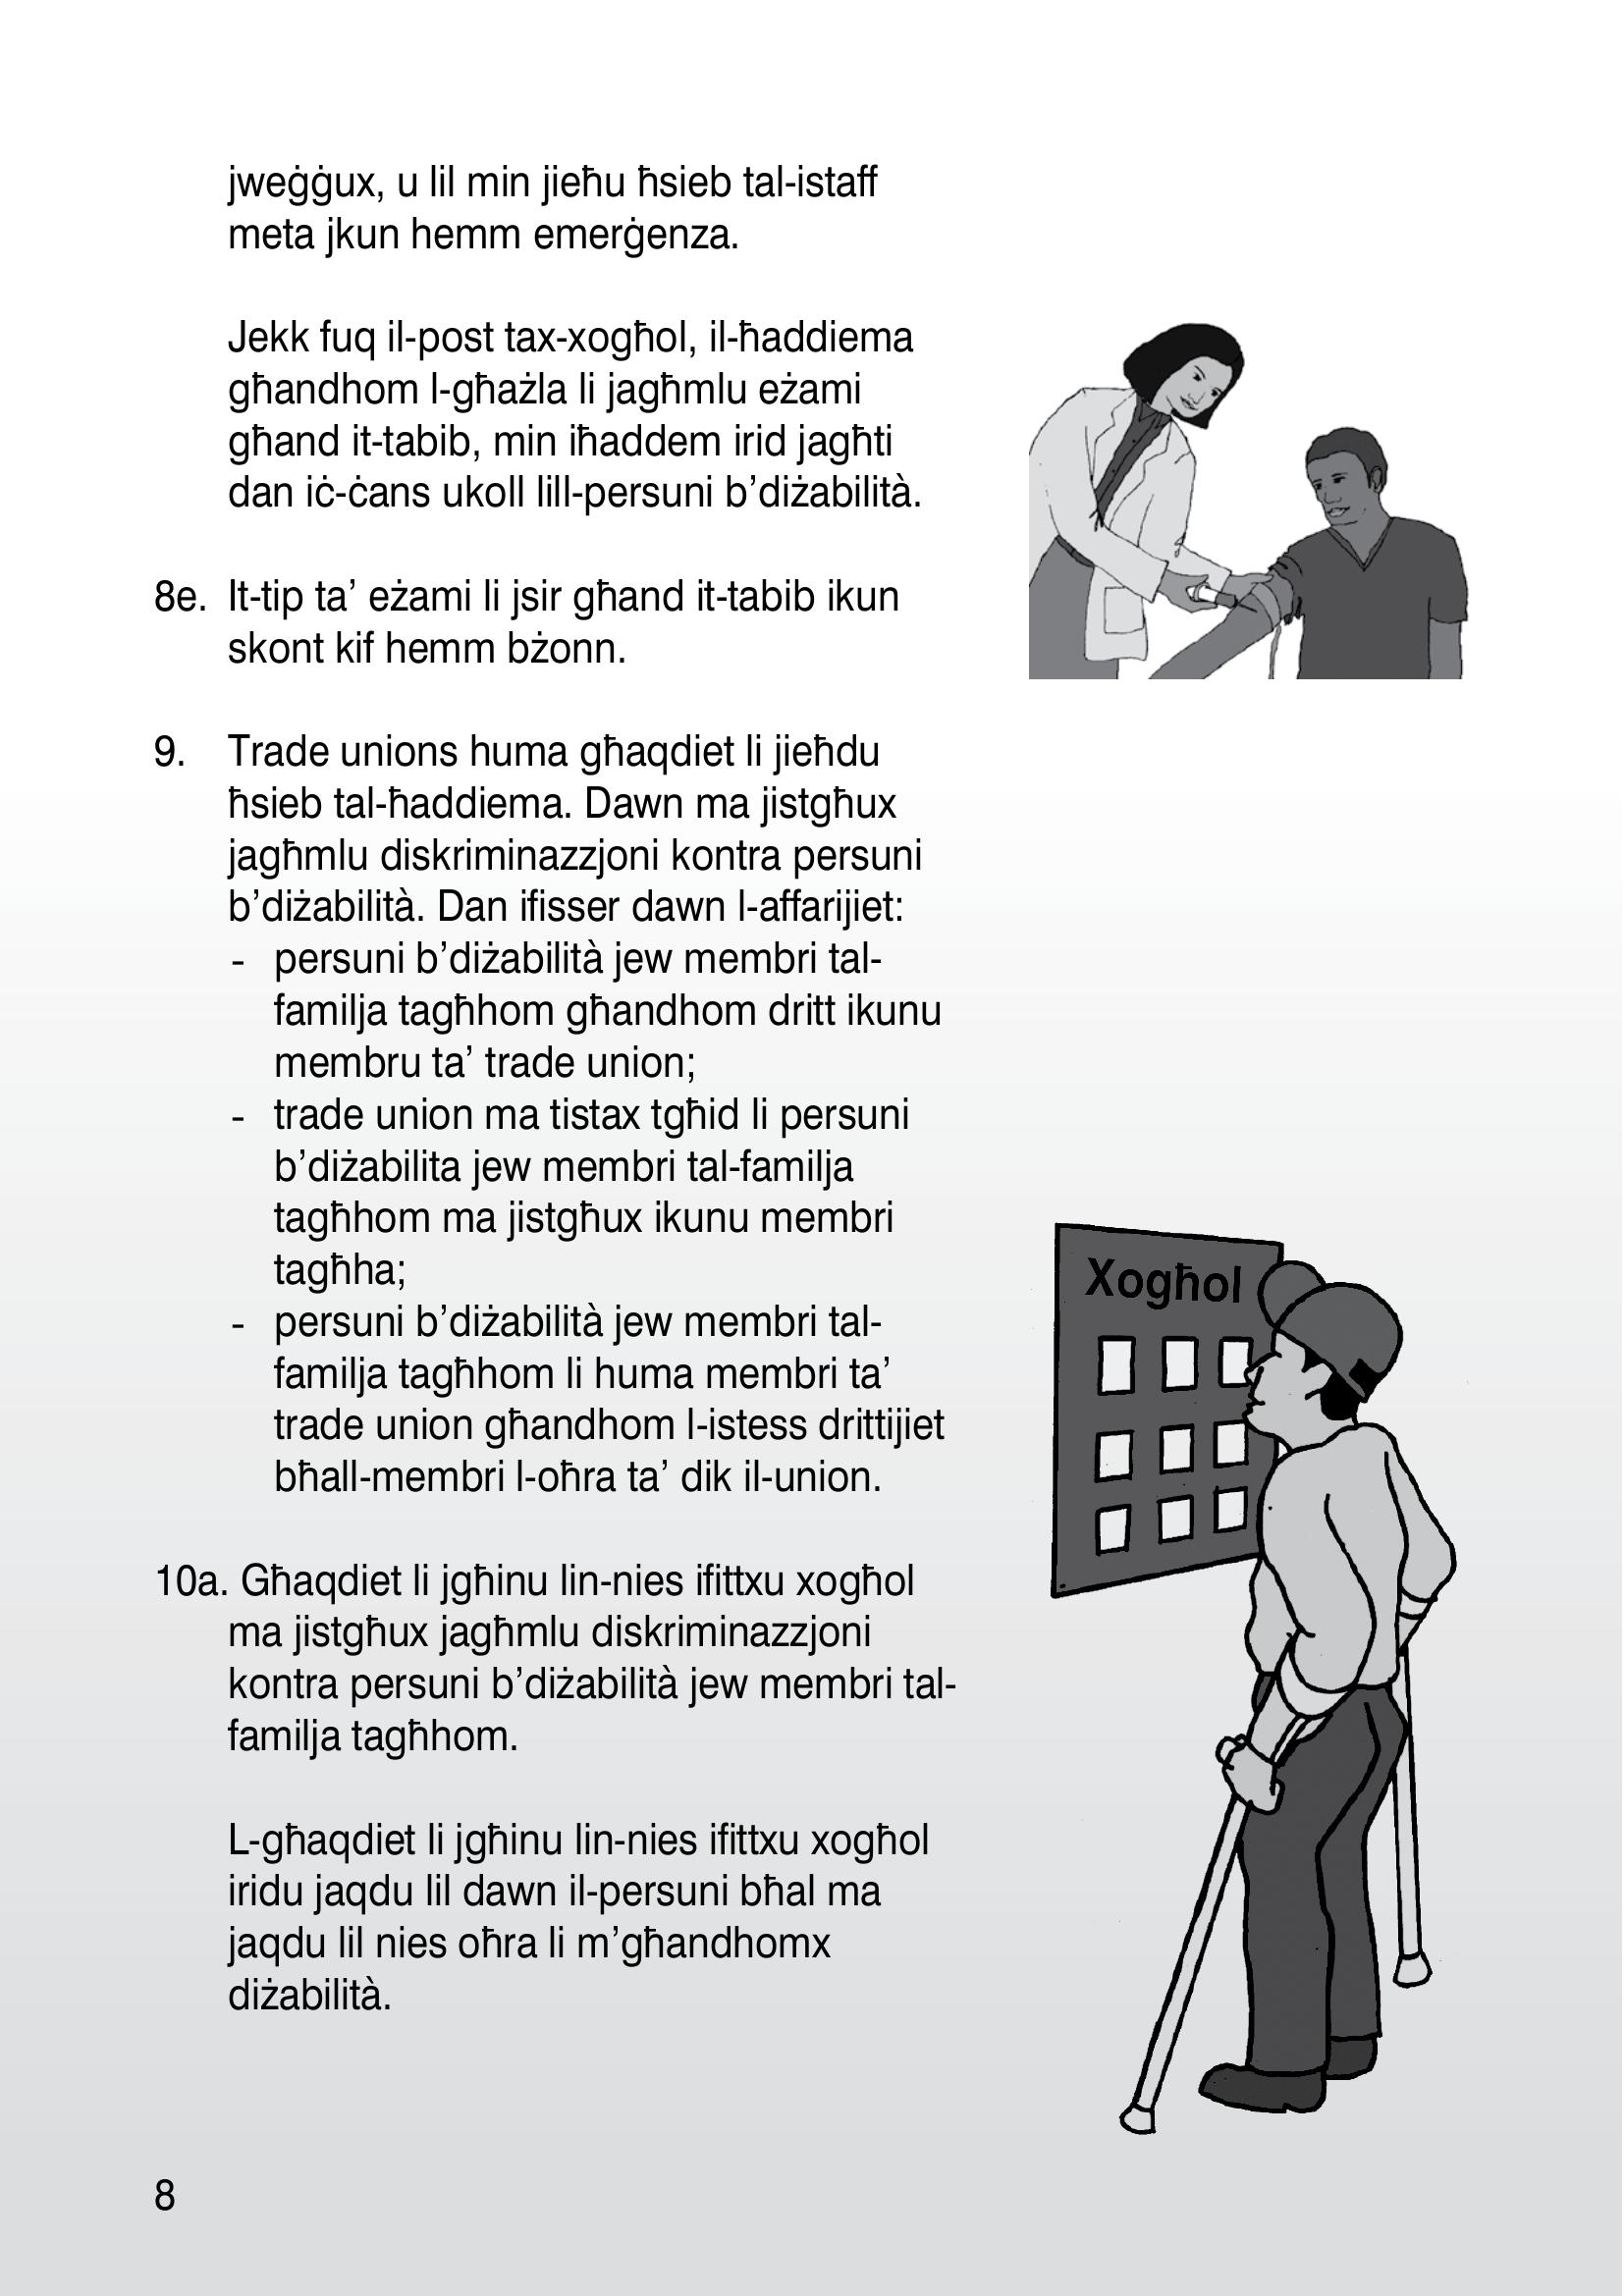text: (116, 128, 965, 2029)
